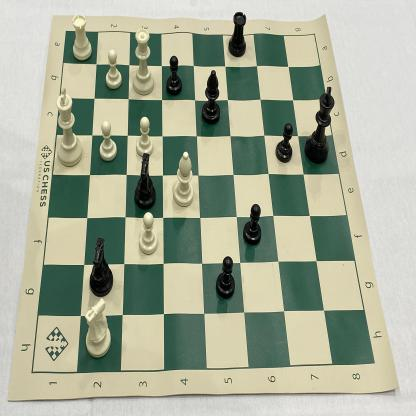black-bishop: (198, 64, 226, 129)
black-king: (302, 79, 337, 169)
black-knight: (85, 232, 116, 299), (130, 150, 160, 214)
black-pawn: (214, 249, 239, 302), (241, 200, 265, 250), (162, 51, 186, 100), (272, 118, 295, 167)
black-rook: (225, 8, 249, 64)
white-bishop: (170, 145, 195, 211)
white-king: (51, 85, 86, 169)
white-knight: (81, 294, 113, 358)
white-pawn: (133, 208, 161, 260), (96, 115, 121, 165), (103, 47, 126, 92), (135, 113, 156, 160)
white-queen: (130, 24, 158, 98)
white-rook: (68, 11, 95, 64)
